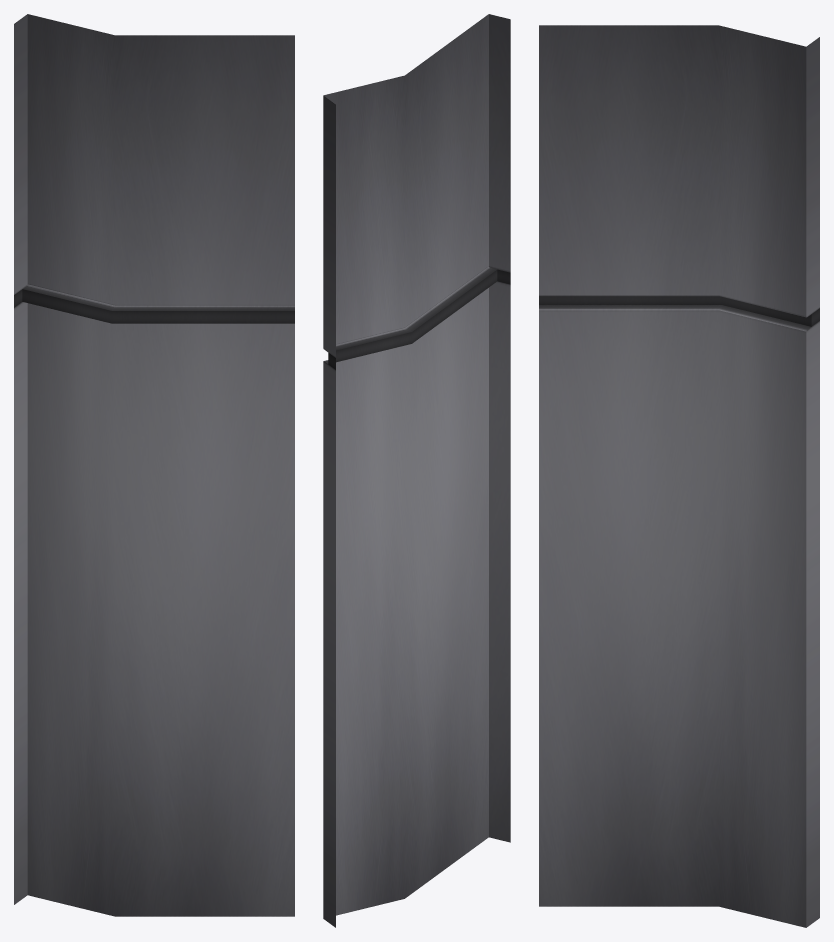
File: XOB_RIN_HB.fbx
The picture shows the model from 3 angles, left to right: view 1: azimuth 90°, elevation 25°; view 2: azimuth 150°, elevation 25°; view 3: azimuth 270°, elevation 25°; orthographic projection. The views are drawn at different scales.
Visible parts, largest first — view 1: XOB_RIN_HB; view 2: XOB_RIN_HB; view 3: XOB_RIN_HB.
Part boxes in pixels (x1,y1,x2,y2): XOB_RIN_HB: [14, 14, 294, 916]; XOB_RIN_HB: [323, 14, 510, 927]; XOB_RIN_HB: [539, 25, 819, 927].
Bounding box in the file's own units: 0.3583 × 4.5 × 1.3.
